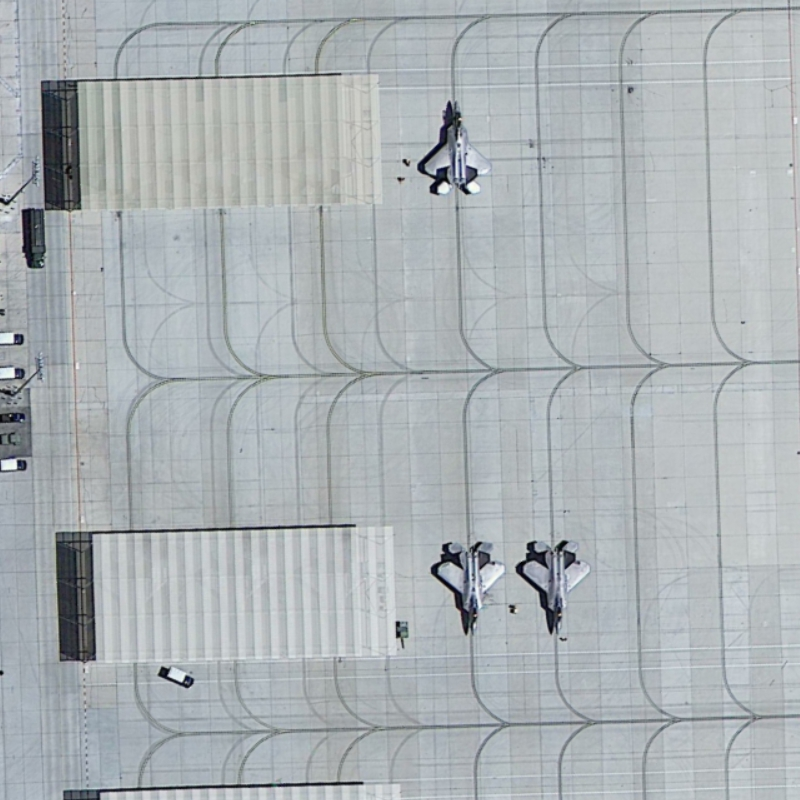A15: (510, 534, 604, 645), (408, 90, 498, 204), (425, 525, 510, 639)
